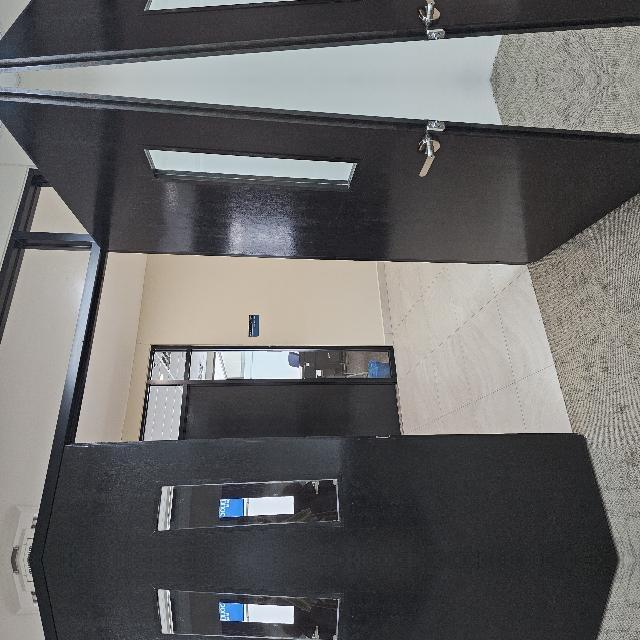door: (294, 81, 470, 640), (0, 138, 124, 640), (294, 401, 470, 640), (0, 440, 124, 640), (294, 0, 470, 78), (0, 0, 124, 22)
